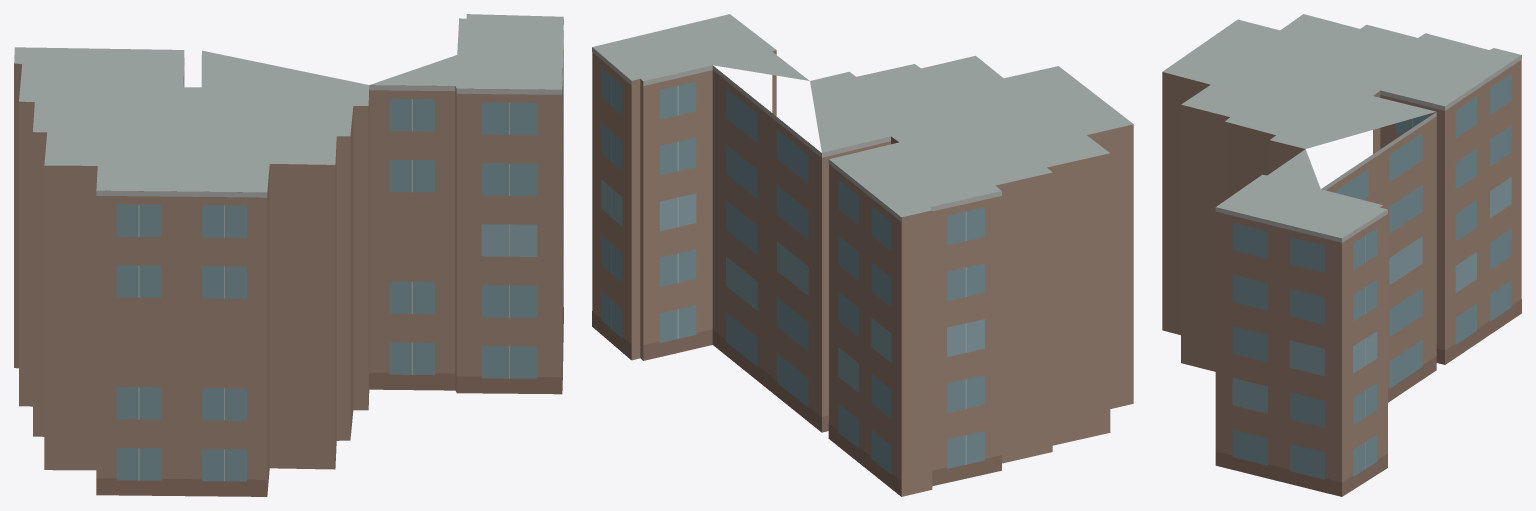
Rendered from survey-upis-32576053.glb.
The picture shows the model from 3 angles, left to right: view 1: azimuth 30°, elevation 25°; view 2: azimuth 150°, elevation 25°; view 3: azimuth 270°, elevation 25°; orthographic projection. The views are drawn at different scales.
Visible parts, largest first — view 1: survey-upis-32576053.tmp; view 2: survey-upis-32576053.tmp; view 3: survey-upis-32576053.tmp.
Part boxes in pixels (<box>): survey-upis-32576053.tmp: <box>14,14,563,496</box>; survey-upis-32576053.tmp: <box>592,14,1133,496</box>; survey-upis-32576053.tmp: <box>1162,14,1521,496</box>.
Bounding box in the file's own units: 26.64 × 14.3 × 18.04.
